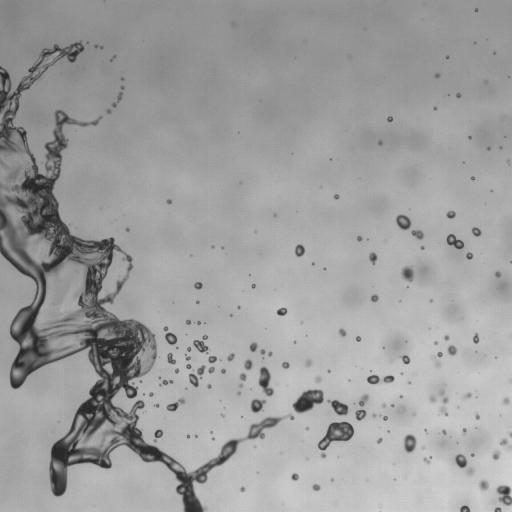droplet: (292, 389, 323, 413), (327, 400, 348, 415), (496, 485, 511, 505), (193, 335, 209, 353), (395, 214, 411, 230), (446, 234, 463, 249), (250, 398, 266, 413), (403, 434, 416, 452), (401, 266, 413, 282), (355, 408, 366, 420), (500, 438, 511, 450), (294, 244, 304, 257), (359, 394, 369, 406), (478, 480, 489, 490), (411, 230, 423, 239), (447, 345, 457, 355), (369, 252, 377, 264), (154, 429, 162, 441), (400, 355, 410, 364), (167, 353, 175, 364), (244, 359, 252, 370), (472, 227, 481, 236), (277, 307, 287, 315), (492, 450, 500, 460), (446, 210, 455, 218), (208, 355, 217, 363), (502, 397, 510, 405), (250, 342, 257, 351), (462, 392, 471, 399), (429, 394, 436, 403), (473, 333, 479, 343), (460, 505, 470, 511), (194, 282, 202, 289), (371, 294, 378, 302), (339, 328, 346, 336), (227, 353, 234, 361), (291, 473, 298, 481), (423, 457, 432, 463), (466, 252, 473, 259), (305, 359, 311, 367), (312, 484, 320, 490), (0, 183, 7, 189), (282, 362, 289, 368), (208, 366, 214, 373), (315, 376, 321, 383), (0, 159, 5, 167), (110, 55, 116, 61), (387, 116, 392, 122), (495, 271, 500, 277), (355, 336, 361, 341), (436, 352, 442, 357), (435, 361, 440, 367), (494, 507, 501, 511), (334, 194, 339, 199), (357, 236, 362, 241), (444, 335, 449, 340), (260, 349, 265, 354), (186, 364, 191, 369), (377, 438, 382, 443), (240, 487, 245, 492), (185, 320, 191, 324), (381, 416, 387, 420), (462, 428, 466, 434), (167, 199, 171, 204), (186, 355, 190, 360), (221, 368, 225, 373), (475, 414, 479, 419), (435, 73, 439, 77), (456, 93, 460, 97), (107, 109, 111, 113), (378, 141, 382, 145), (420, 245, 424, 249), (268, 351, 272, 355), (207, 384, 211, 388), (149, 392, 153, 396), (442, 430, 446, 434), (120, 86, 124, 89), (125, 228, 129, 231), (252, 284, 255, 288), (187, 347, 190, 351), (175, 369, 178, 373), (237, 391, 240, 395), (382, 403, 385, 407), (155, 404, 159, 407), (509, 432, 511, 437), (433, 107, 436, 110), (487, 147, 490, 150), (471, 176, 474, 179), (434, 341, 437, 344), (372, 414, 375, 417), (306, 427, 309, 430), (471, 453, 474, 456), (446, 55, 448, 59), (121, 77, 123, 80), (507, 160, 509, 163), (273, 214, 276, 216), (430, 299, 432, 302), (237, 306, 240, 308), (197, 322, 200, 324), (95, 45, 97, 47), (100, 46, 102, 48), (294, 341, 296, 343), (400, 395, 402, 397), (391, 404, 393, 406), (222, 415, 224, 417), (210, 431, 212, 433), (425, 430, 427, 432), (187, 435, 189, 437), (422, 446, 424, 448)
ligament: (0, 47, 293, 511), (317, 421, 354, 458), (451, 454, 474, 475), (258, 366, 273, 396), (189, 365, 205, 387), (366, 374, 394, 385), (438, 389, 448, 416), (163, 326, 176, 345), (166, 398, 185, 411), (112, 92, 122, 107), (239, 373, 246, 387), (161, 380, 172, 385)
